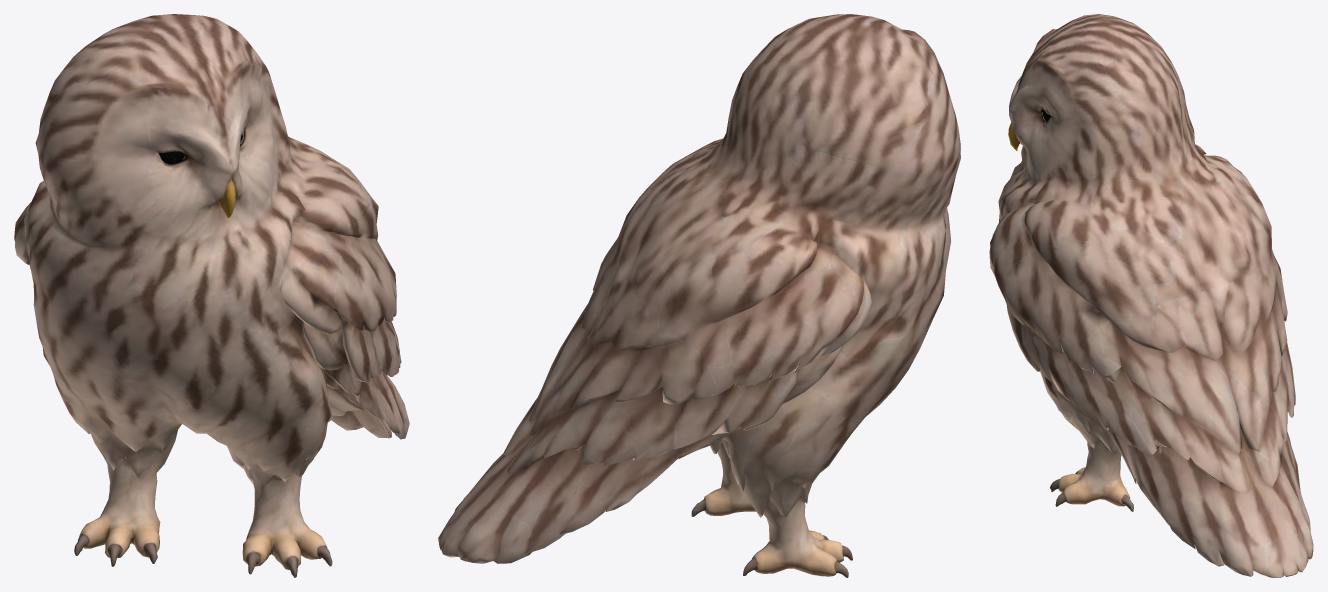
File: owl-ural.glb
The picture shows the model from 3 angles, left to right: view 1: azimuth 30°, elevation 25°; view 2: azimuth 150°, elevation 25°; view 3: azimuth 270°, elevation 25°; orthographic projection. The views are drawn at different scales.
Visible parts, largest first — view 1: geometry_0; view 2: geometry_0; view 3: geometry_0.
Part boxes in pixels (x1,y1,x2,y2): geometry_0: (14,14,409,577); geometry_0: (438,14,960,577); geometry_0: (989,14,1313,577).
Size of the model in its own units: 0.7974 by 0.9517 by 0.6504.
1 material, 1 textured.
